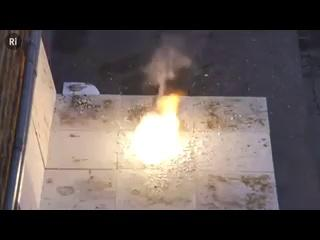Fire: (127, 86, 180, 168)
